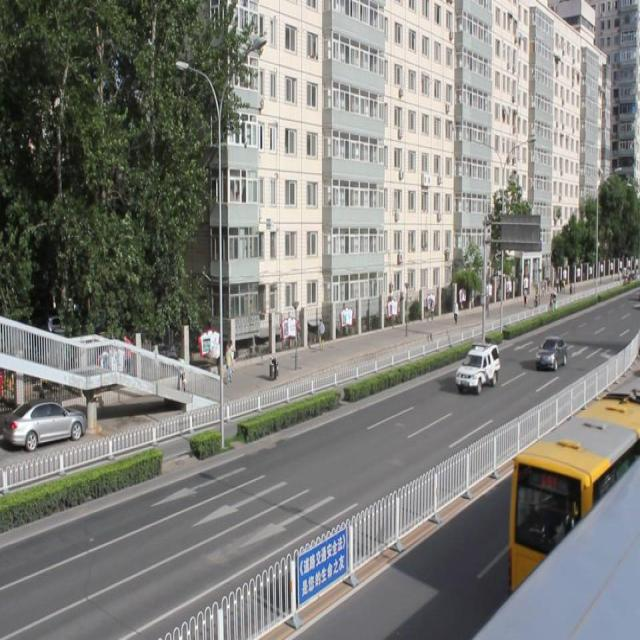car: (454, 341, 498, 388), (534, 335, 564, 367)
van: (476, 466, 640, 640), (510, 394, 640, 577)
